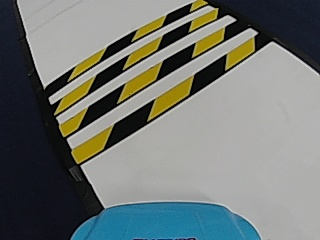bump: (47, 27, 256, 109)
